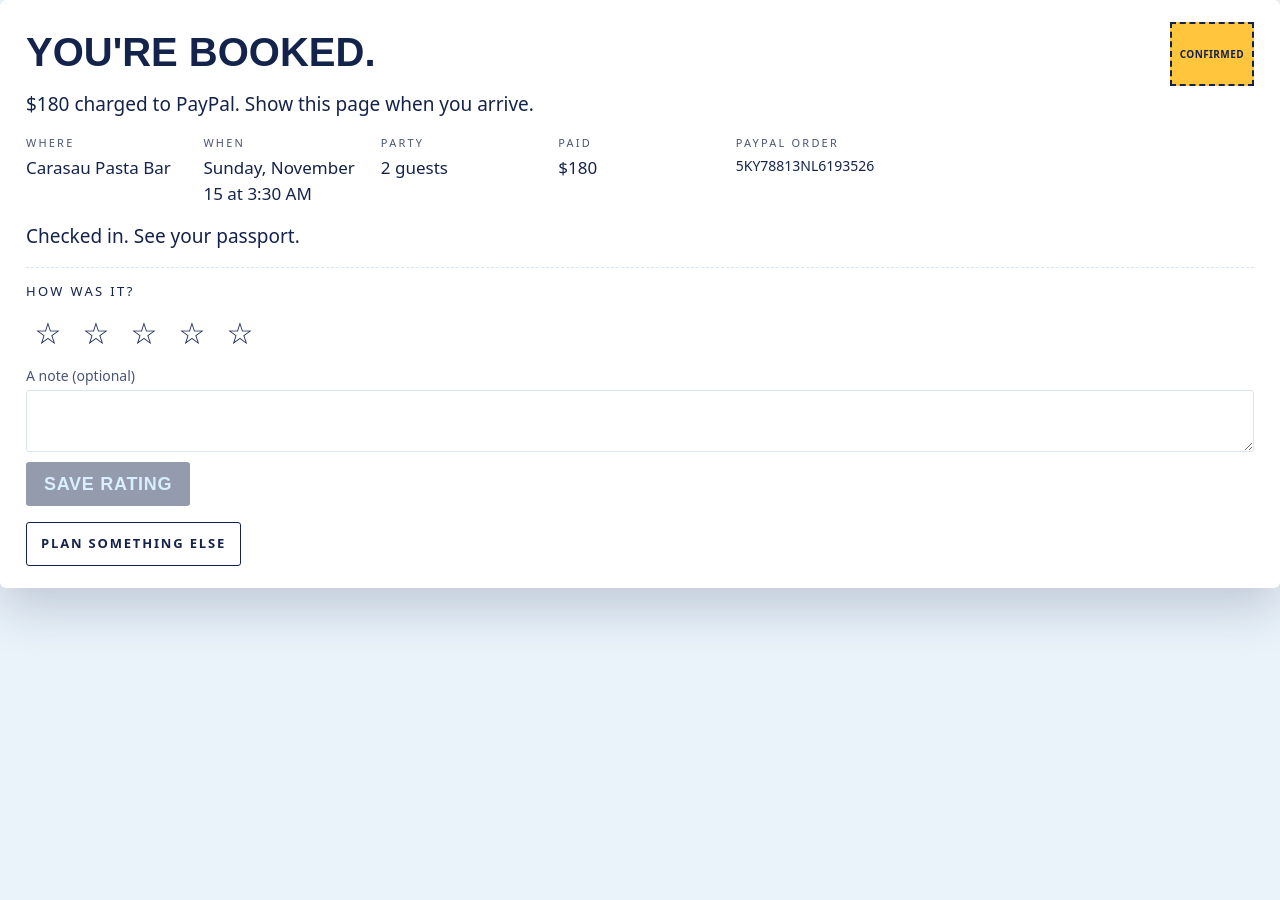
BookingStatus › rating a visit › errors are shown ({"status":500,"body":{}})
Step 1. Click the button named "5 stars" → (240,333), box [218, 311, 262, 355]
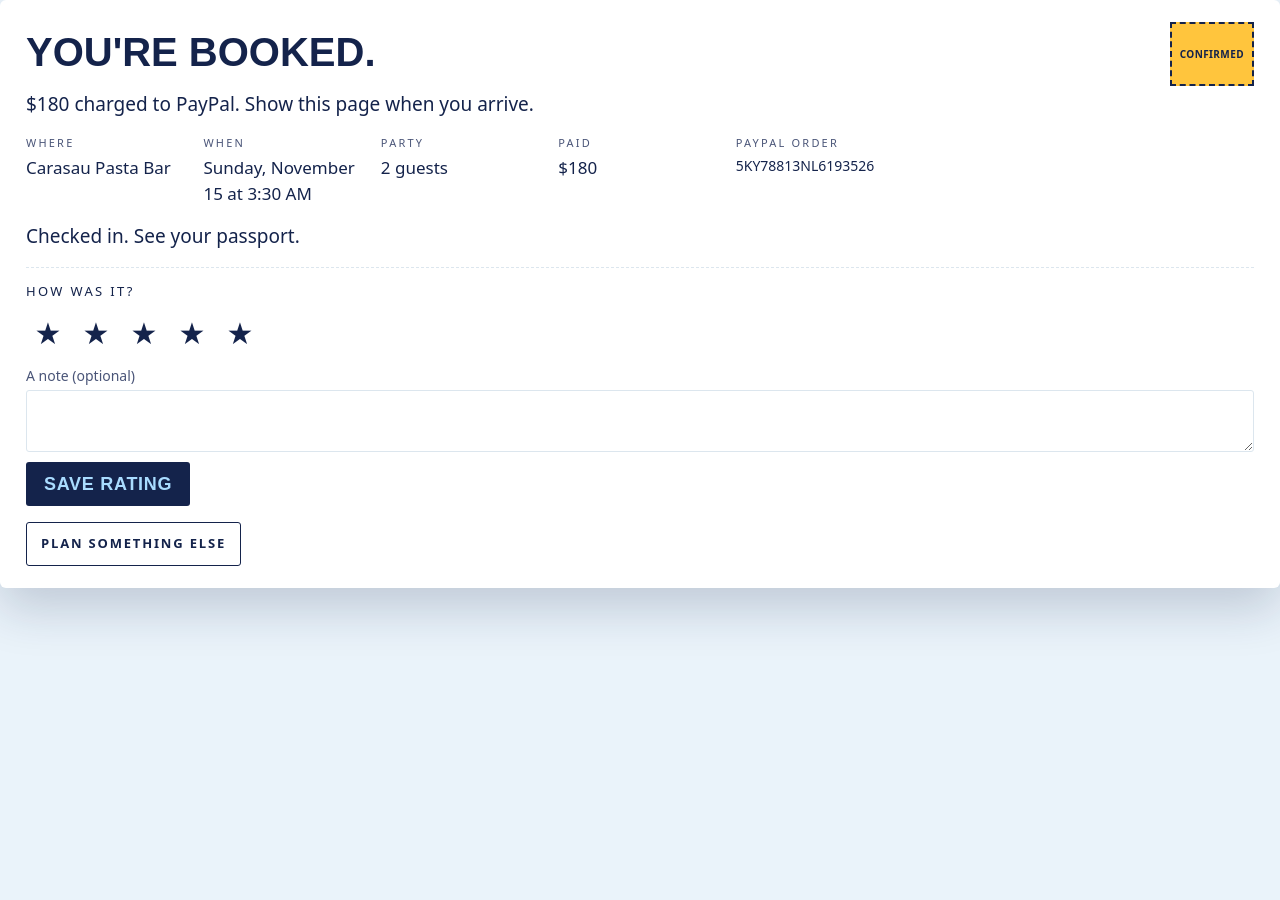
Step 2. Click the button "Save rating" → (108,484), box [26, 462, 190, 506]
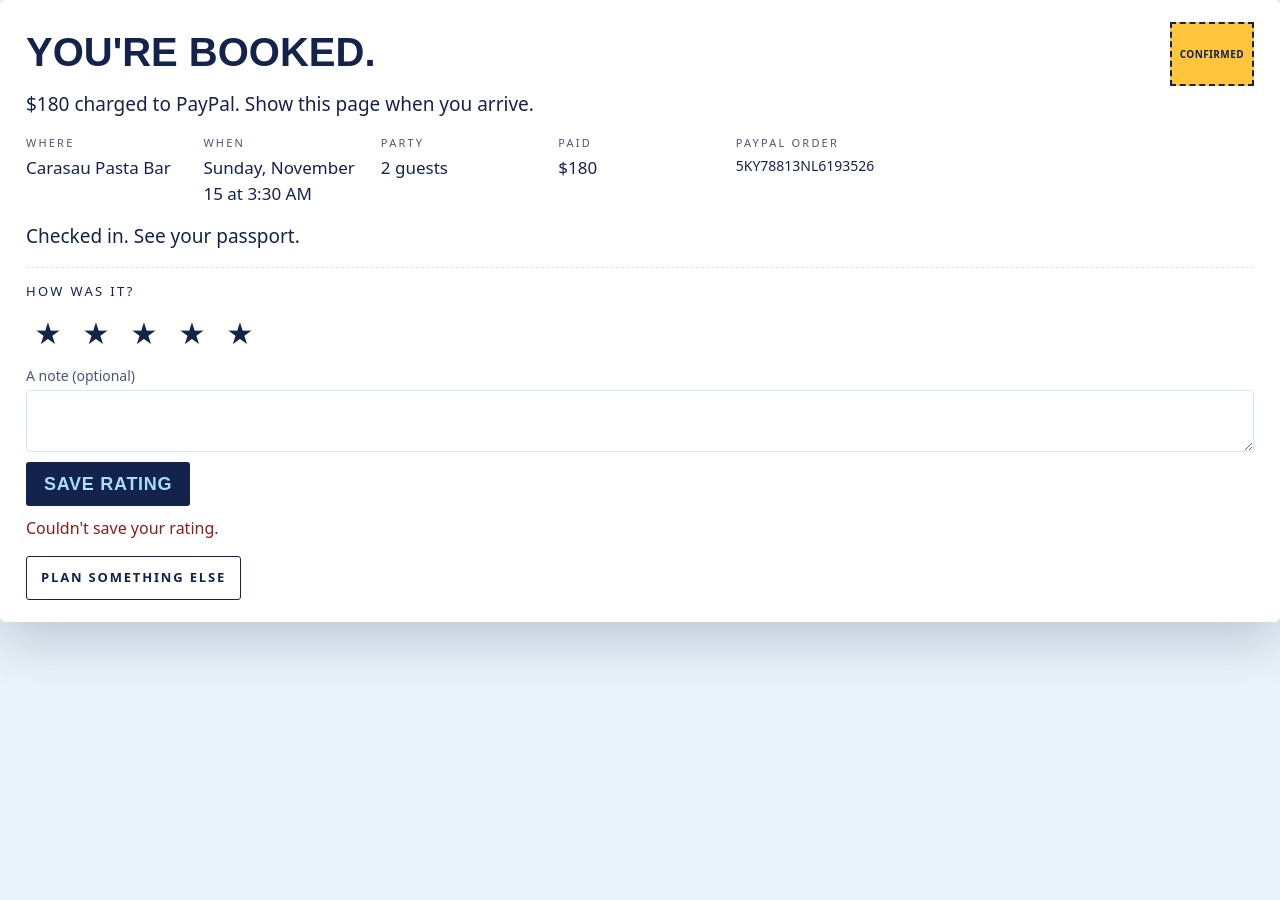
Check: the message "Couldn't save your rating." is shown, box [26, 517, 218, 539]
